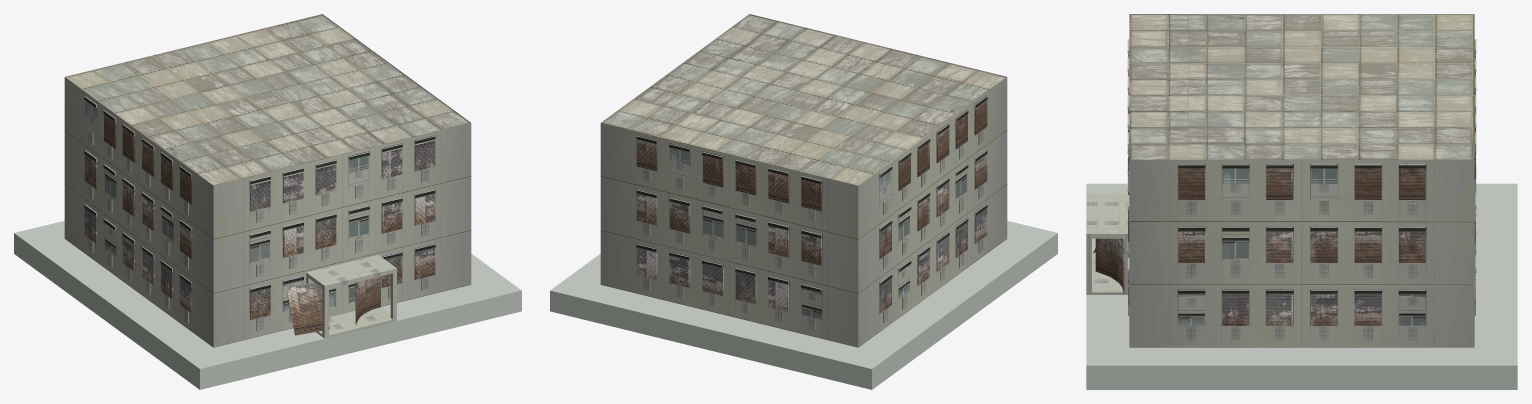
File: BagSS03base_200.fbx
The picture shows the model from 3 angles, left to right: view 1: azimuth 30°, elevation 25°; view 2: azimuth 150°, elevation 25°; view 3: azimuth 270°, elevation 25°; orthographic projection. The views are drawn at different scales.
Parts seen in each view (by area): view 1: baseMain200, baseRoof200, baseBase200, basewindows200, baseBox200, baseporch200, basedoor200; view 2: baseMain200, baseRoof200, baseBase200, basewindows200, baseBox200; view 3: baseMain200, baseRoof200, baseBase200, basewindows200, baseBox200, baseporch200, basedoor200.
Part boxes in pixels (x1,y1,x2,y2): baseMain200: (64,14,471,347); baseRoof200: (65,14,469,185); baseBase200: (14,221,521,389); basewindows200: (84,114,435,319); baseBox200: (85,101,368,316); baseporch200: (306,255,396,338); basedoor200: (287,276,380,335); baseMain200: (600,14,1007,347); baseRoof200: (602,14,1005,185); baseBase200: (550,221,1057,389); basewindows200: (636,100,987,313); baseBox200: (670,147,967,319); baseMain200: (1127,14,1476,347); baseRoof200: (1129,14,1474,159); baseBase200: (1086,183,1517,389); basewindows200: (1128,43,1475,325); baseBox200: (1178,168,1425,325); baseporch200: (1086,193,1127,294); basedoor200: (1093,238,1124,293).
Size of the model in its own units: 25.6 by 13.89 by 25.6.
